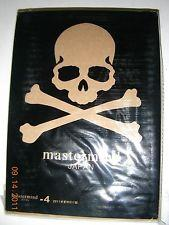mastermind_JAPAN: (20, 27, 150, 151)
